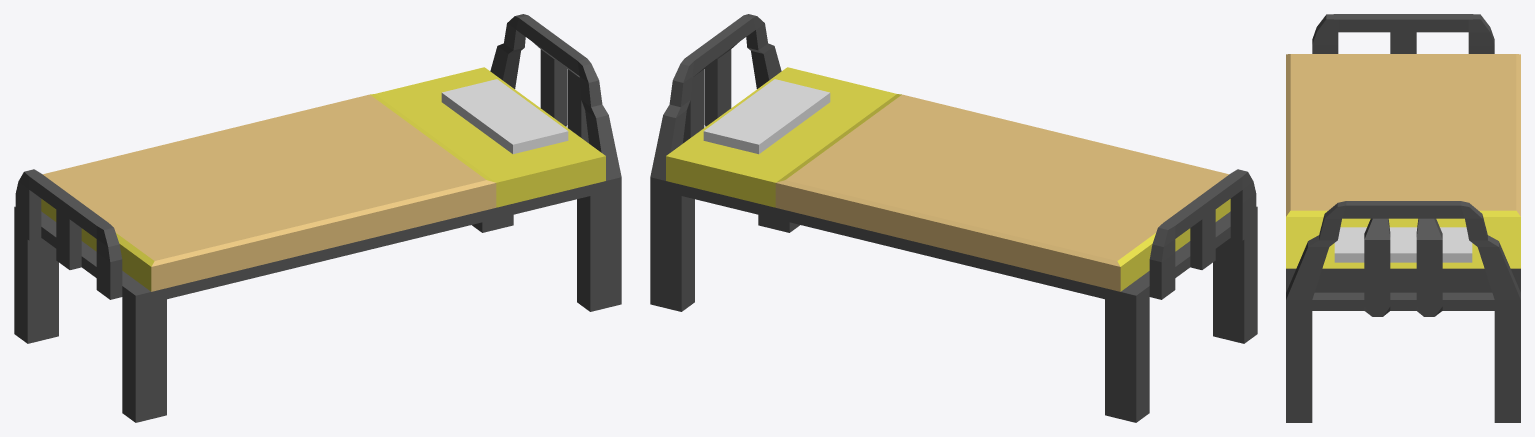
The model's file is Bed_01.fbx.
3 renders of one model, left to right at view 1: azimuth 30°, elevation 25°; view 2: azimuth 150°, elevation 25°; view 3: azimuth 270°, elevation 25°, orthographic. The views are drawn at different scales.
Visible parts, largest first — view 1: Bed_01; view 2: Bed_01; view 3: Bed_01.
Boxes of the visible parts, bbox=[...] form: Bed_01: bbox=[14, 14, 621, 422]; Bed_01: bbox=[650, 14, 1257, 422]; Bed_01: bbox=[1286, 14, 1520, 422].
Size of the model in its own units: 396 by 166 by 163.
